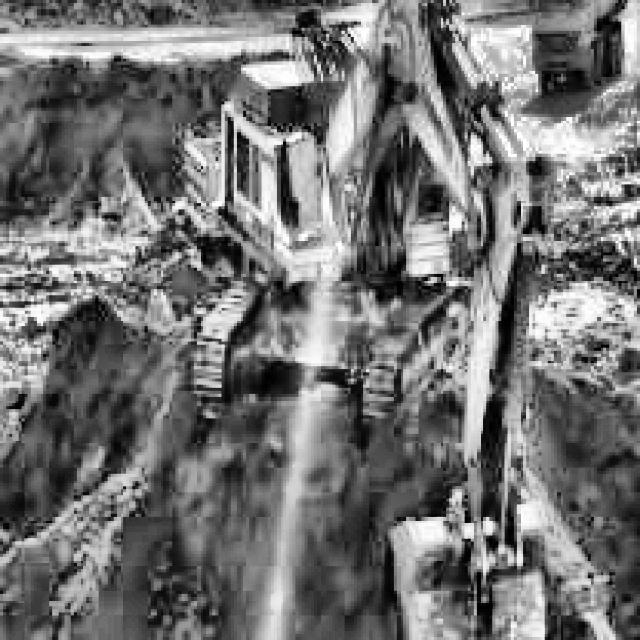dump_truck: (523, 0, 634, 92)
excavator: (179, 0, 566, 640)
